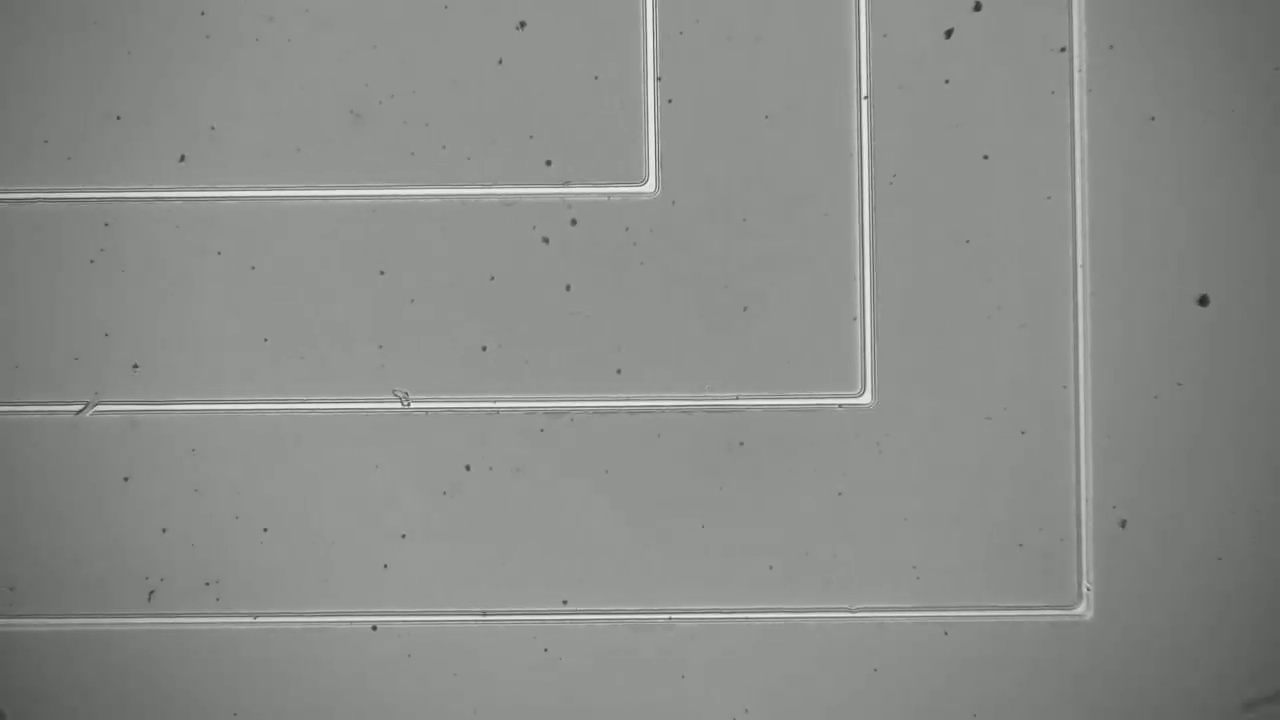open: (62, 384, 102, 427)
stains_enbedded: (383, 378, 420, 421)
